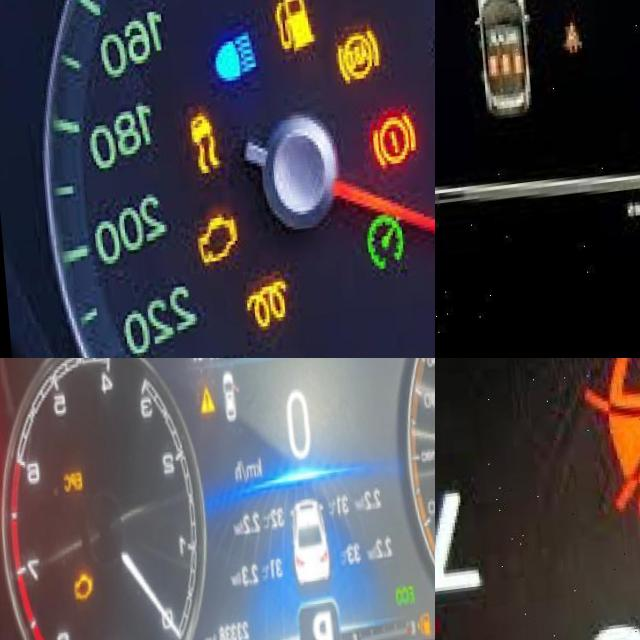Seat Belt: (578, 358, 640, 540), (554, 29, 577, 67)
